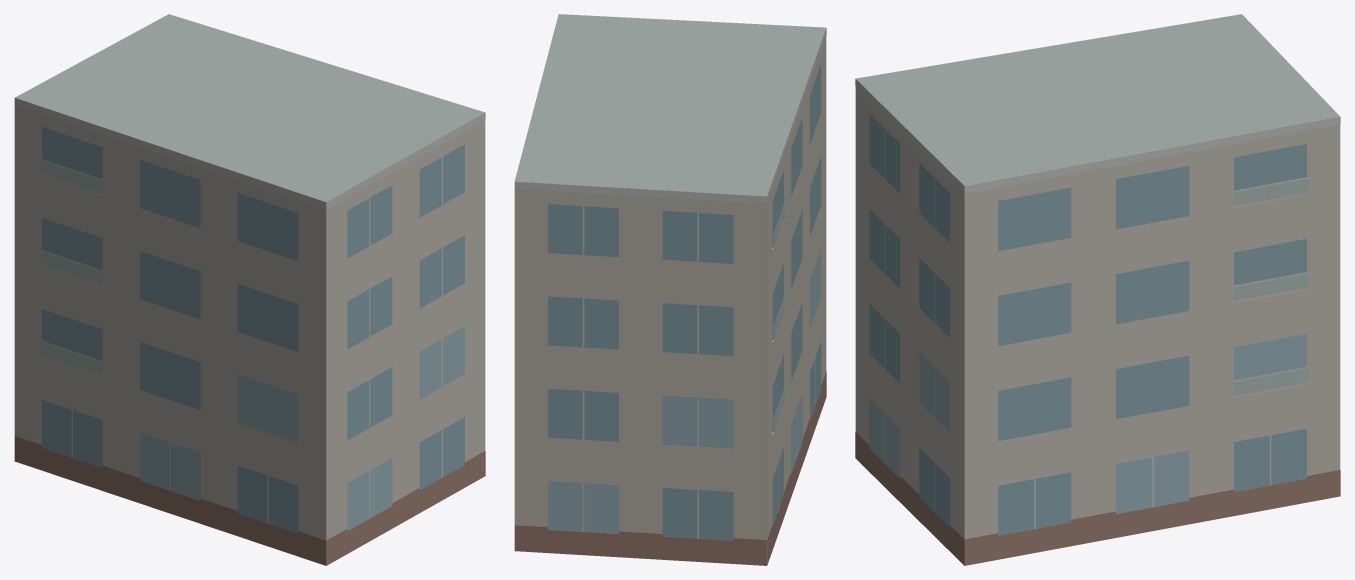
The model's file is survey-upis-32498080.glb.
The picture shows the model from 3 angles, left to right: view 1: azimuth 30°, elevation 25°; view 2: azimuth 150°, elevation 25°; view 3: azimuth 270°, elevation 25°; orthographic projection. The views are drawn at different scales.
Visible parts, largest first — view 1: survey-upis-32498080.tmp; view 2: survey-upis-32498080.tmp; view 3: survey-upis-32498080.tmp.
Part boxes in pixels (<box>): survey-upis-32498080.tmp: <box>14,14,485,565</box>; survey-upis-32498080.tmp: <box>514,14,826,565</box>; survey-upis-32498080.tmp: <box>855,14,1340,565</box>.
Bounding box in the file's own units: 11.88 × 12.2 × 14.13.
